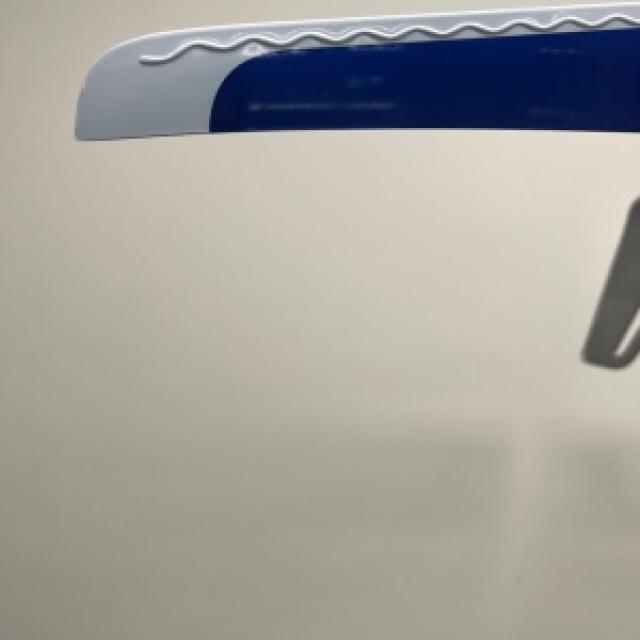healthy: (582, 198, 638, 363)
